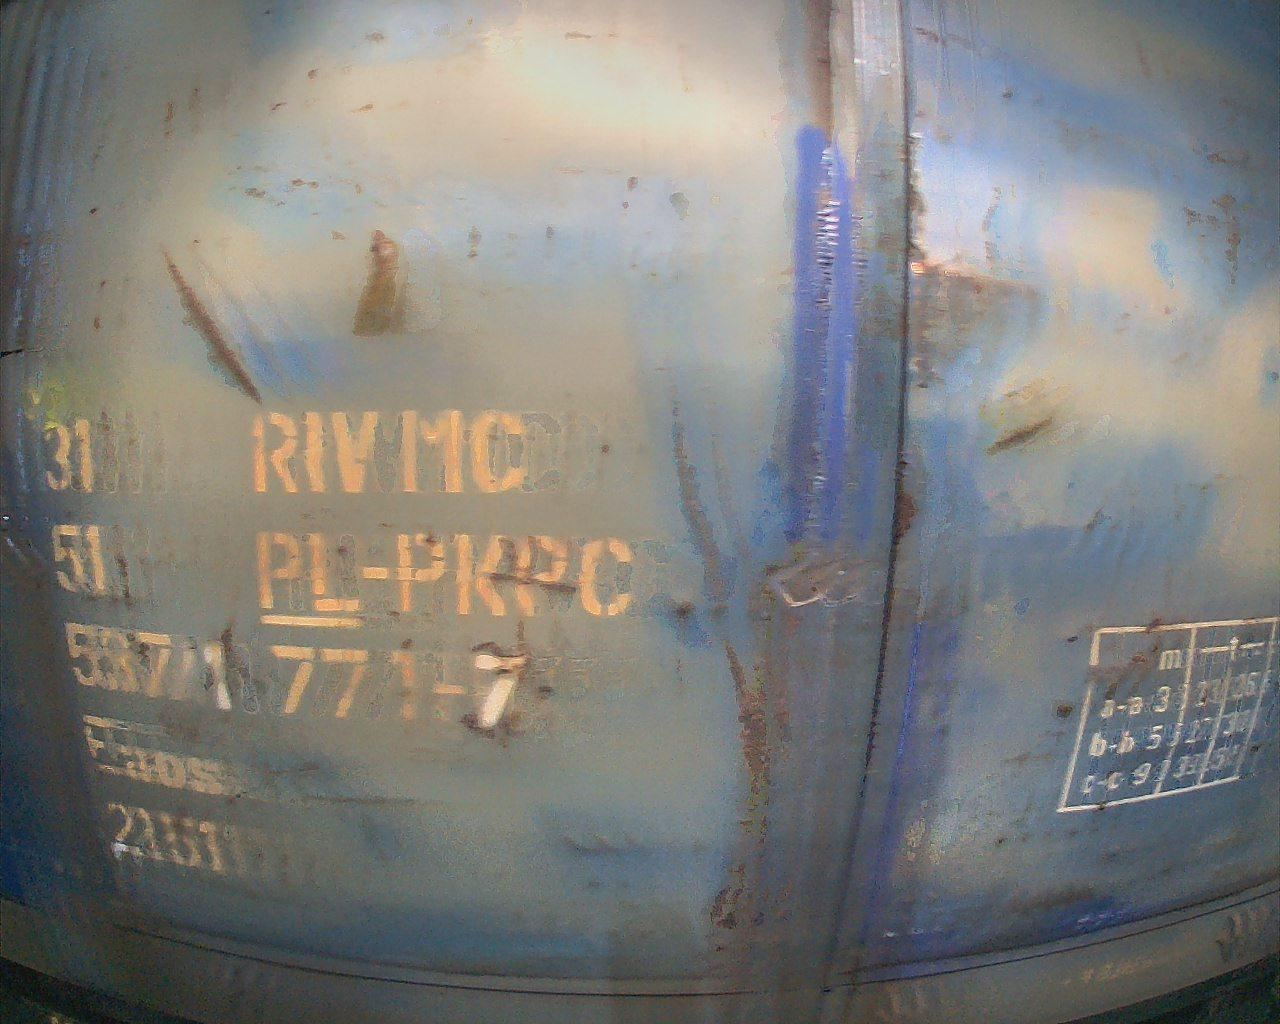UIC: (28, 406, 639, 872)
